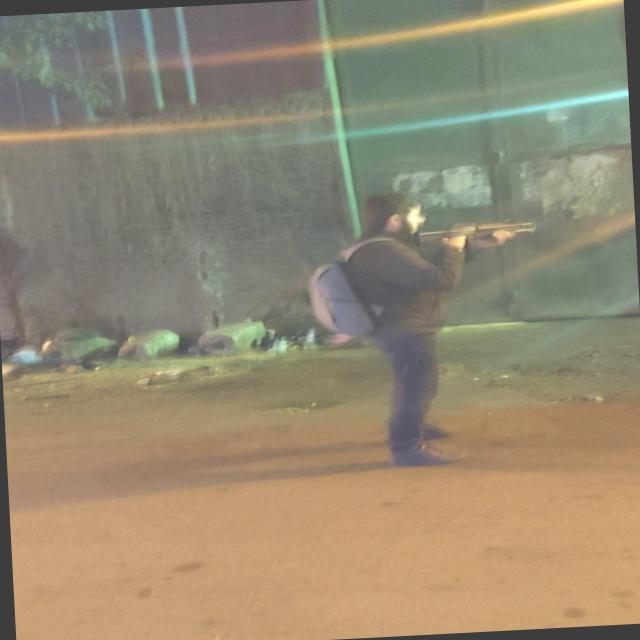long weapon: (414, 208, 556, 252)
